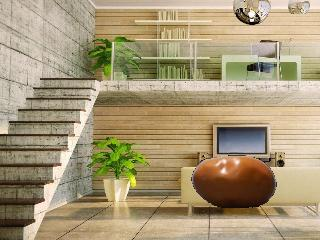potato: (190, 152, 279, 211)
